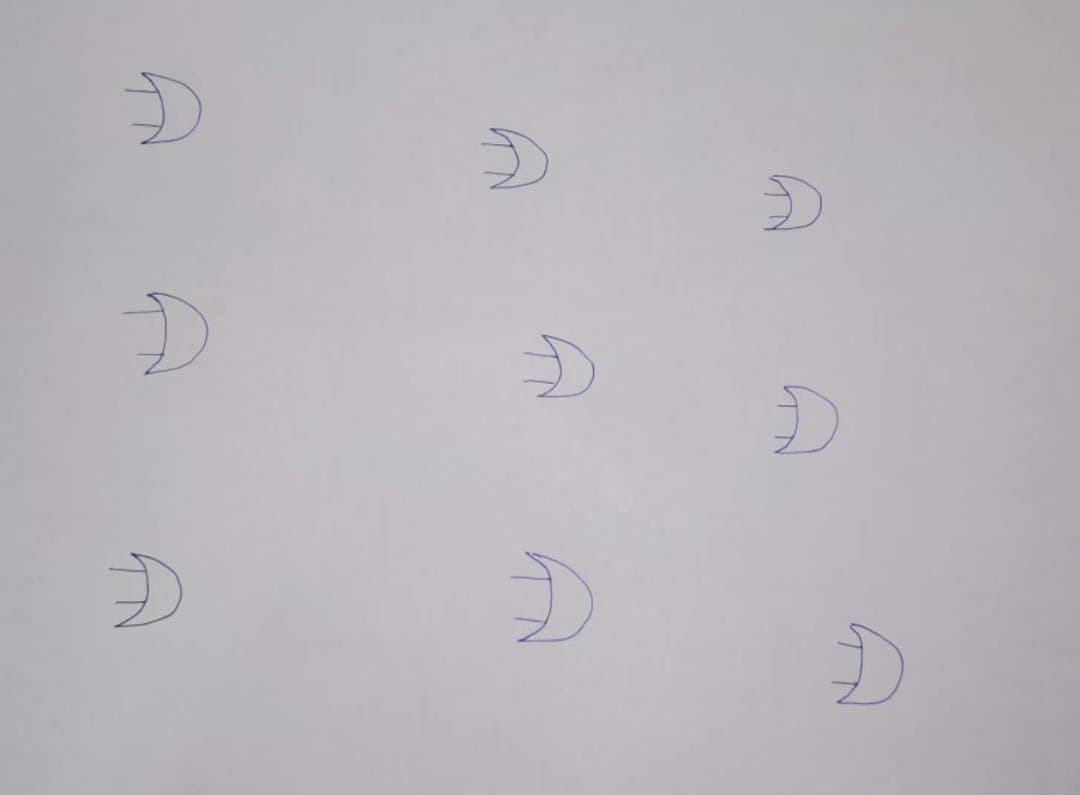or: (512, 543, 602, 653), (108, 540, 195, 647), (124, 285, 214, 385), (133, 64, 206, 161), (524, 323, 605, 407), (833, 622, 909, 711), (771, 376, 846, 464), (758, 165, 831, 242), (482, 120, 552, 198)
